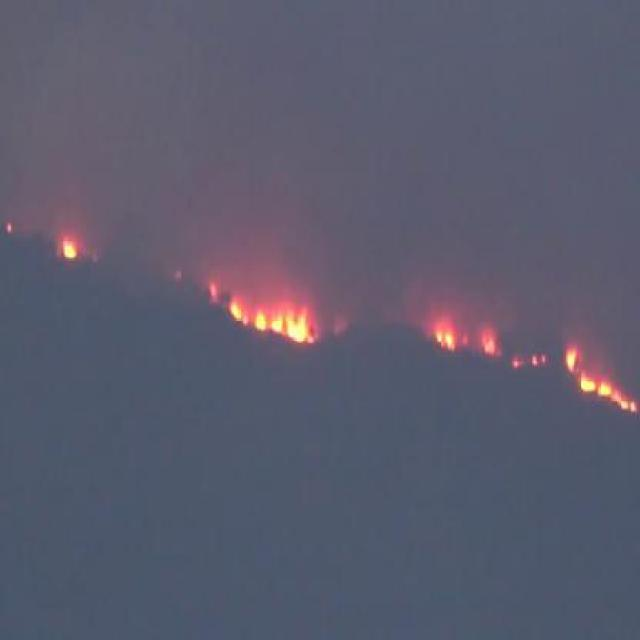Fire: (559, 334, 640, 418), (227, 296, 316, 346), (433, 322, 455, 346), (60, 238, 77, 260), (481, 337, 496, 354)
